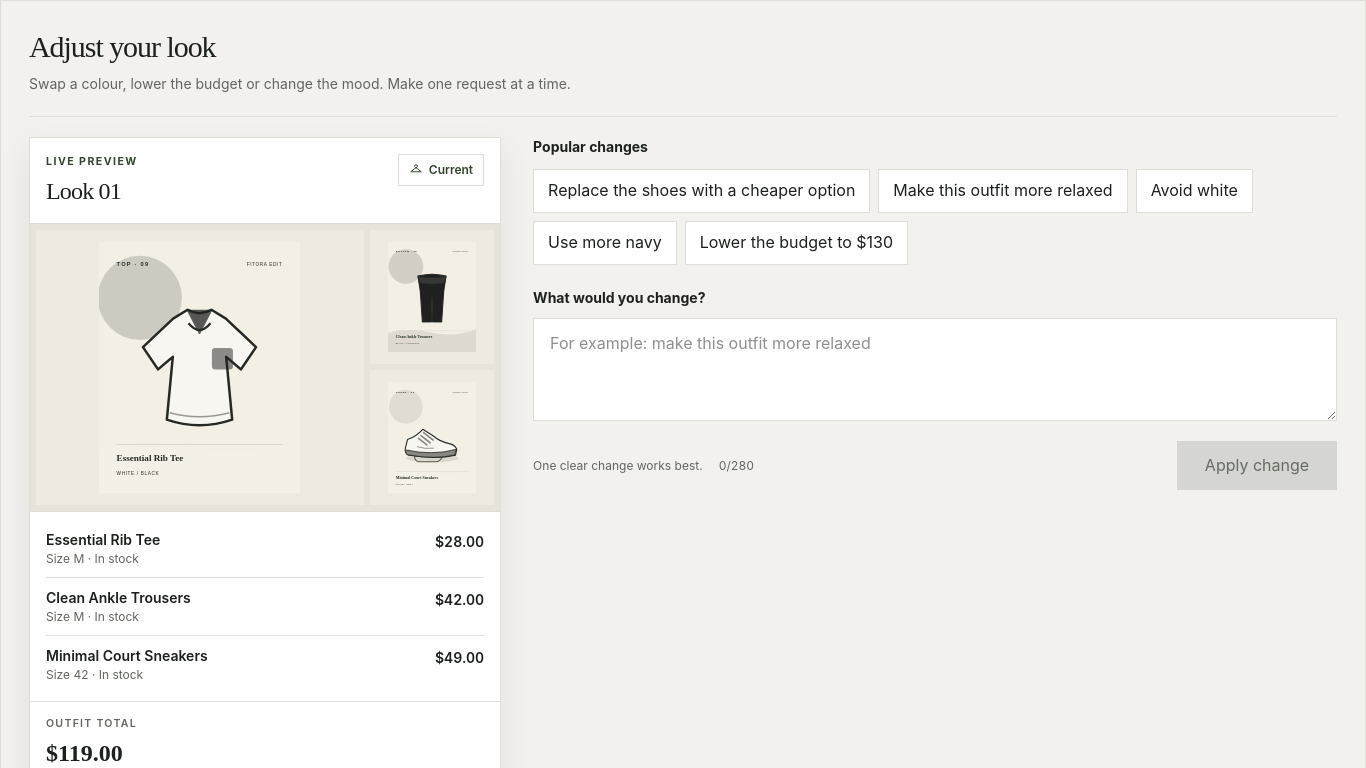
AgentPanel › rejects malformed success bodies without changing verified state
Click the button "Avoid white" at (1194, 191), box [1136,169,1253,213]
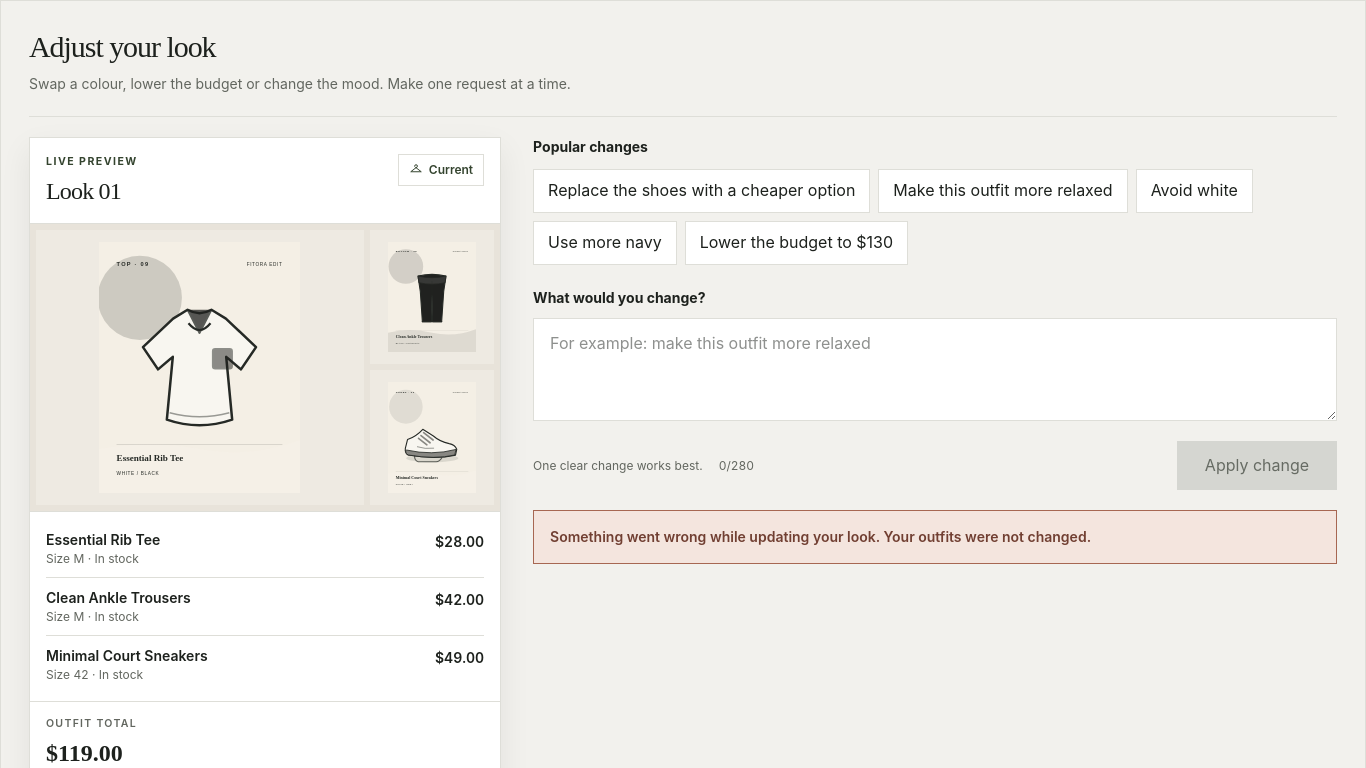
Expected: the message shows "Something went wrong while updating your look", [550,528,1091,545]
